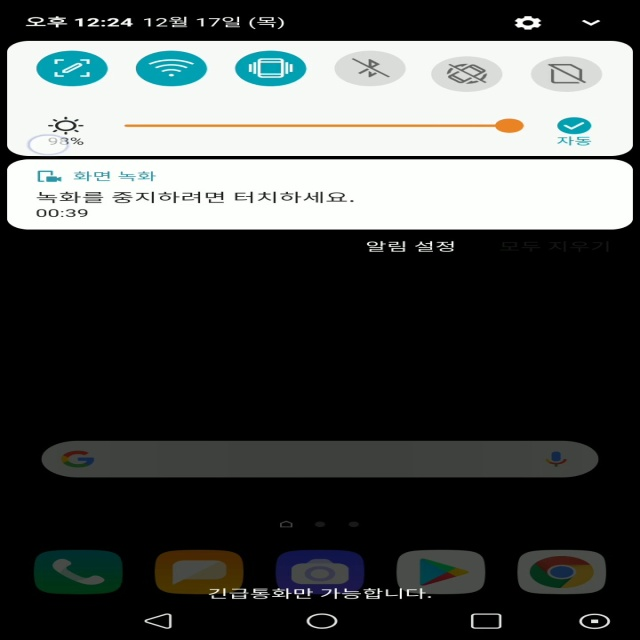Cursor: (27, 135, 72, 157)
